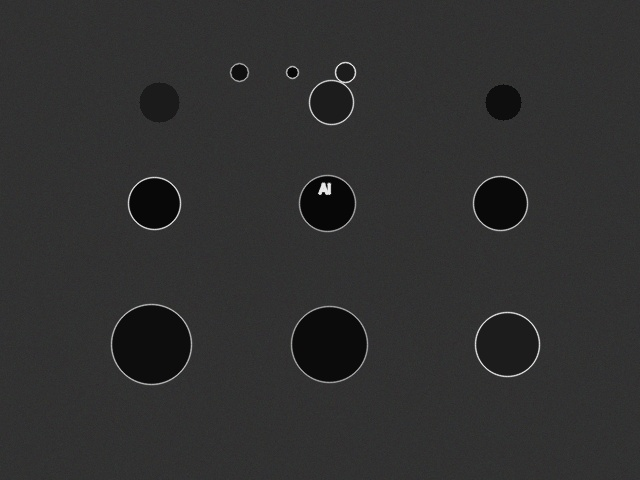hole: (111, 304, 191, 384), (291, 306, 367, 382), (475, 312, 539, 376), (299, 175, 355, 231), (473, 176, 527, 230), (128, 177, 180, 229), (309, 80, 353, 124), (139, 82, 179, 122), (485, 84, 521, 120), (335, 62, 355, 82), (230, 63, 248, 81), (286, 66, 298, 78)
